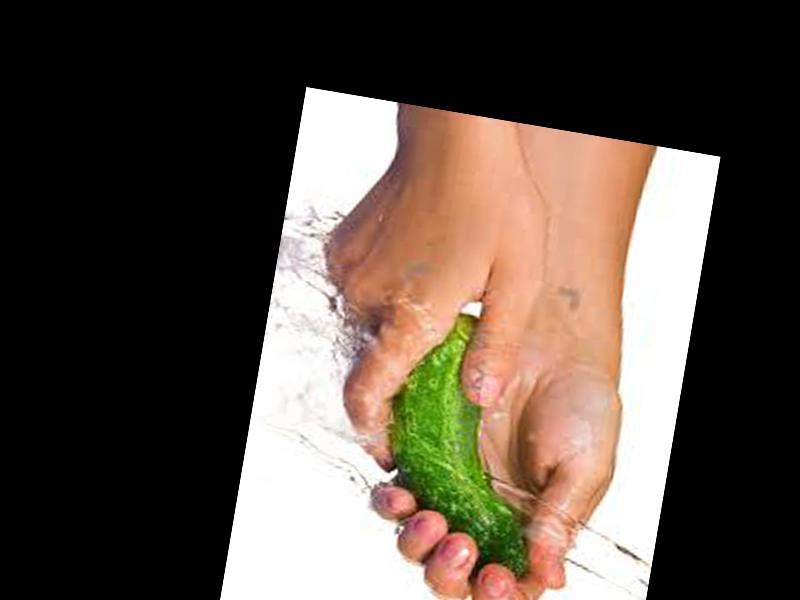Cucumber: (364, 301, 567, 579)
